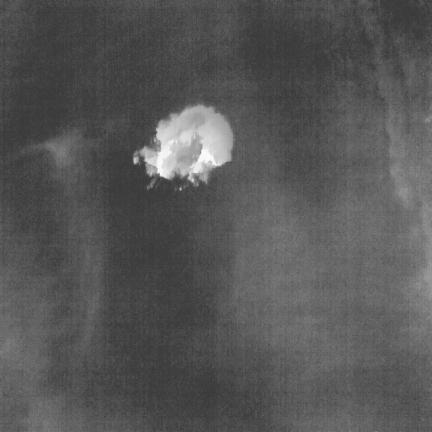flukeprints: (134, 105, 233, 181)
